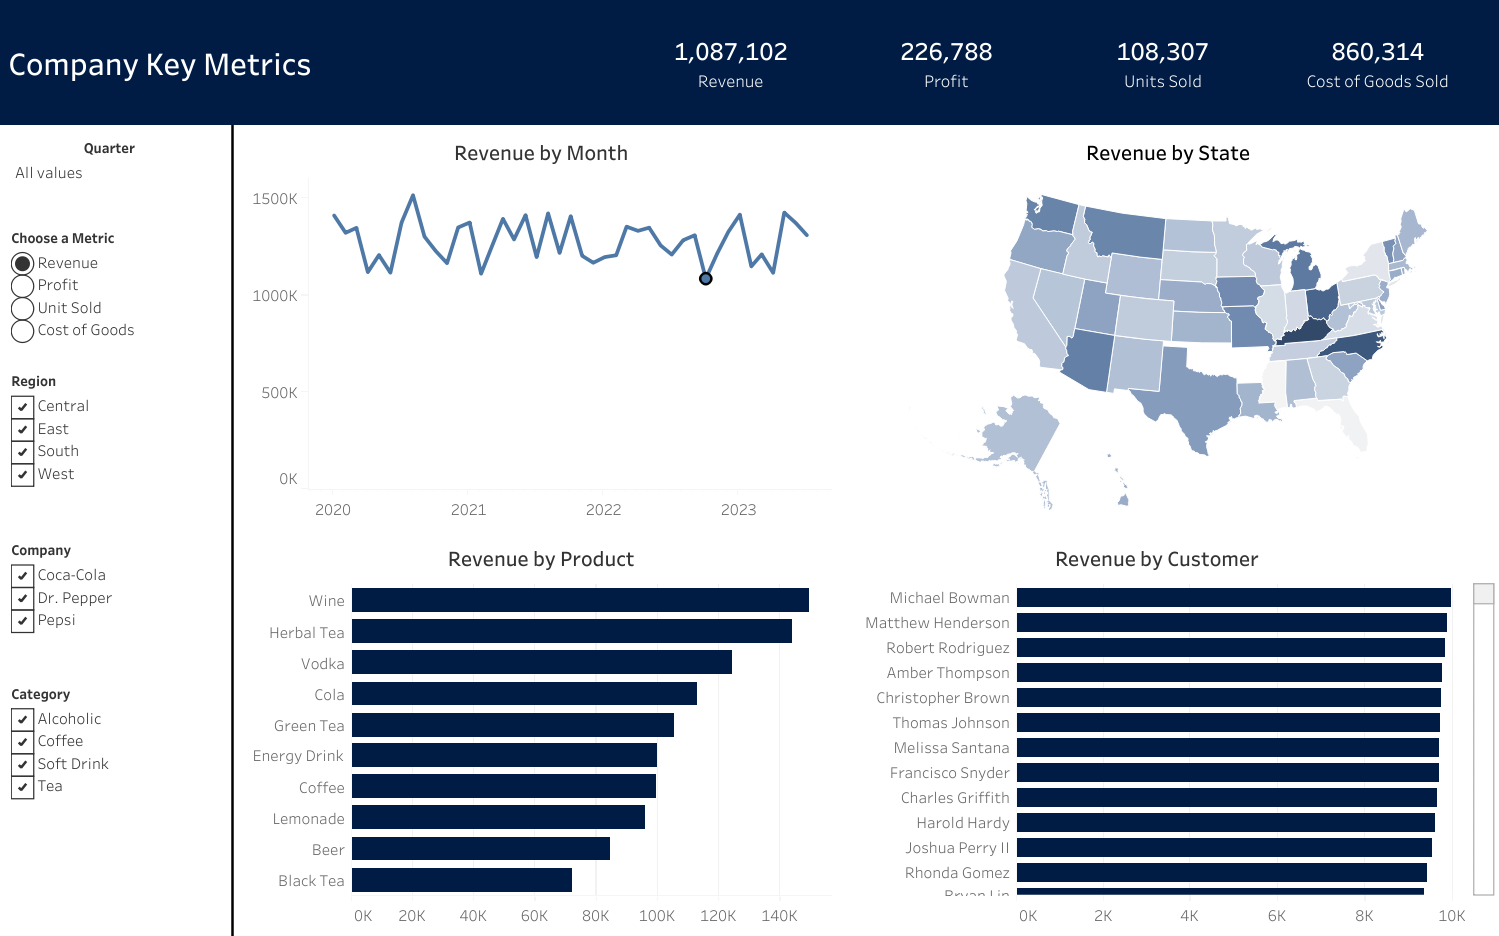

This screenshot's page, from the dashboard's own definition file:
{"tool":"tableau","page":{"name":"Company Key Metrics","canvas":[1200,750],"ordinal":0},"visuals":[{"type":"text","box":[0,0,488,100]},{"type":"worksheet","title":"KPIs","mark":"Automatic","box":[488,0,712,100]},{"type":"blank","box":[175,100,22,650]},{"type":"worksheet","title":"Revenue by Month","mark":"Automatic","rows":["Calculation_1226667978968924160"],"cols":["Purchase Date"],"box":[197,100,472,325]},{"type":"worksheet","title":"Sales by Map","mark":"Automatic","box":[669,100,531,325]},{"type":"filter","title":"Sales by Map","param":"[federated.0hvh8vb1u0iai415nyyis19p7d5d].[tqr:Purchase Date:qk]","box":[4,104,167,75]},{"type":"parameter","param":"[Parameters].[Parameter 1]","box":[4,179,167,130]},{"type":"filter","title":"Sales by Map","param":"[federated.0hvh8vb1u0iai415nyyis19p7d5d].[Customer State (group)]","box":[4,309,167,153]},{"type":"worksheet","title":"Product","mark":"Automatic","rows":["Product"],"cols":["Calculation_1226667978968924160"],"box":[197,425,472,325]},{"type":"worksheet","title":"Customer","mark":"Automatic","rows":["Customer Name"],"cols":["Calculation_1226667978968924160"],"box":[669,425,531,325]},{"type":"filter","title":"Sales by Map","param":"[federated.0hvh8vb1u0iai415nyyis19p7d5d].[none:Company:nk]","box":[4,462,167,130]},{"type":"filter","title":"Sales by Map","param":"[federated.0hvh8vb1u0iai415nyyis19p7d5d].[none:Category:nk]","box":[4,592,167,153]}]}

Visuals, with their boxes in screenshot pixels (x1, y1, x2, y2), scaled from the page's 1200x750 canvas onto the 1499x936 screenshot:
text: pyautogui.locateOnScreen(0, 0, 610, 125)
"KPIs" worksheet: pyautogui.locateOnScreen(610, 0, 1498, 125)
blank: pyautogui.locateOnScreen(219, 125, 246, 935)
"Revenue by Month" worksheet: pyautogui.locateOnScreen(246, 125, 836, 530)
"Sales by Map" worksheet: pyautogui.locateOnScreen(836, 125, 1498, 530)
"Sales by Map" filter: pyautogui.locateOnScreen(5, 130, 214, 223)
parameter: pyautogui.locateOnScreen(5, 223, 214, 386)
"Sales by Map" filter: pyautogui.locateOnScreen(5, 386, 214, 577)
"Product" worksheet: pyautogui.locateOnScreen(246, 530, 836, 935)
"Customer" worksheet: pyautogui.locateOnScreen(836, 530, 1498, 935)
"Sales by Map" filter: pyautogui.locateOnScreen(5, 577, 214, 739)
"Sales by Map" filter: pyautogui.locateOnScreen(5, 739, 214, 930)
